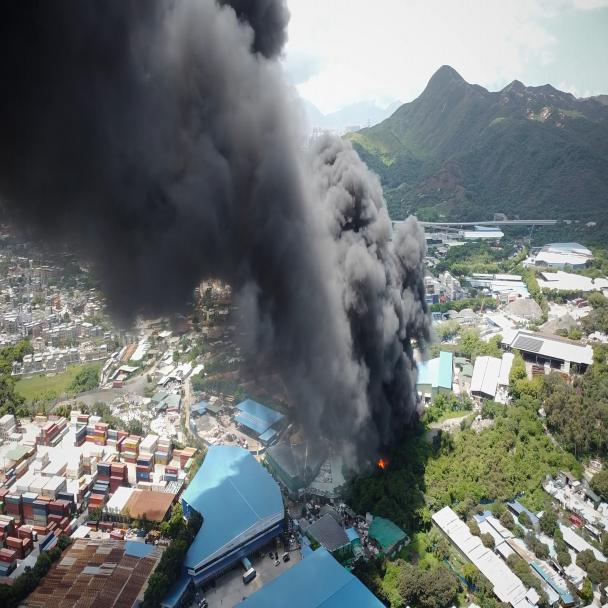Fire: (277, 332, 534, 510)
smoke: (2, 5, 463, 279)
